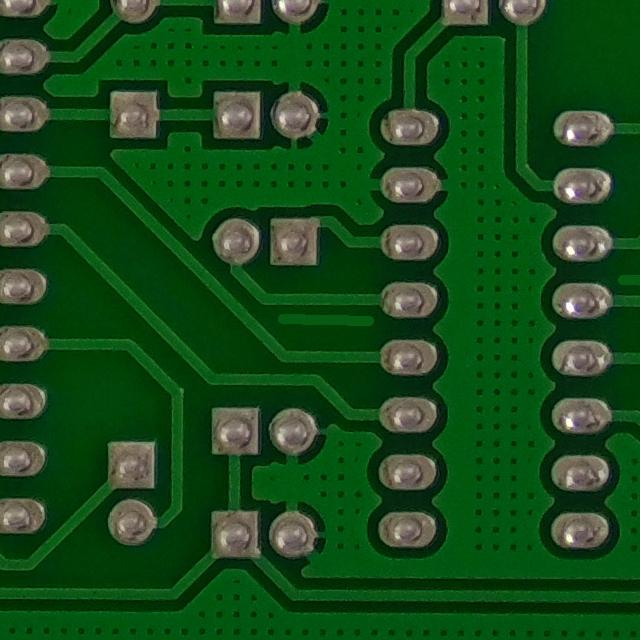spurious_copper: (258, 291, 382, 350)
